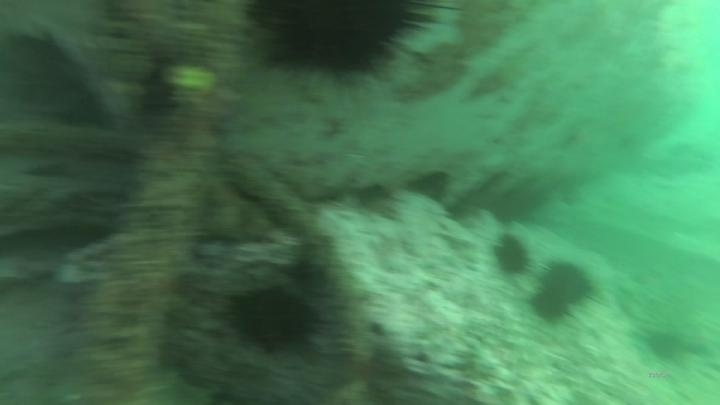echinus: (245, 2, 438, 81), (224, 282, 325, 357), (530, 257, 598, 324), (490, 231, 533, 279), (528, 283, 574, 326), (640, 326, 688, 366)
